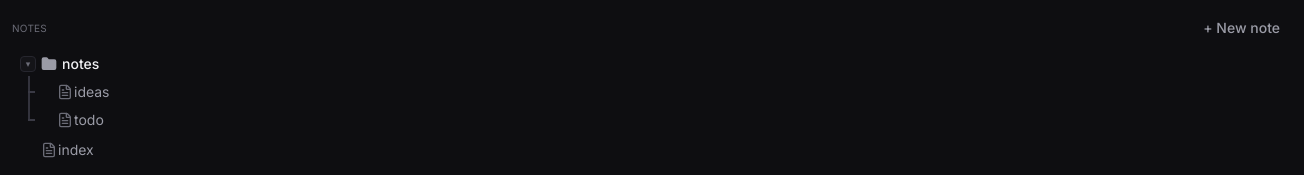
Test: FolderTree › collapses and re-expands a folder
Check: the button "ideas" is shown, box [74,78,1284,106]
Click the button "notes". click: (81, 64)
box: [62,50,1284,78]
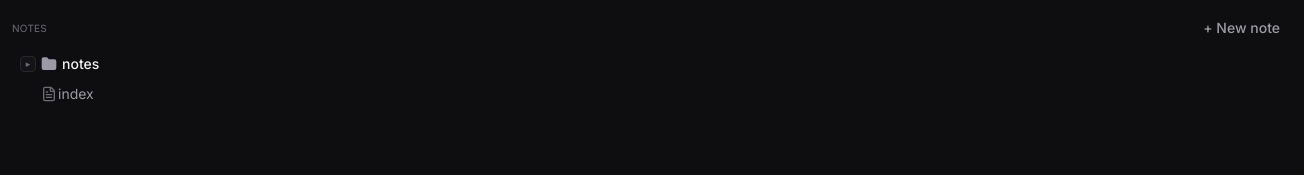
Check: the button "ideas" is gone
Click the button "notes". click: (81, 64)
box: [62,50,1284,78]
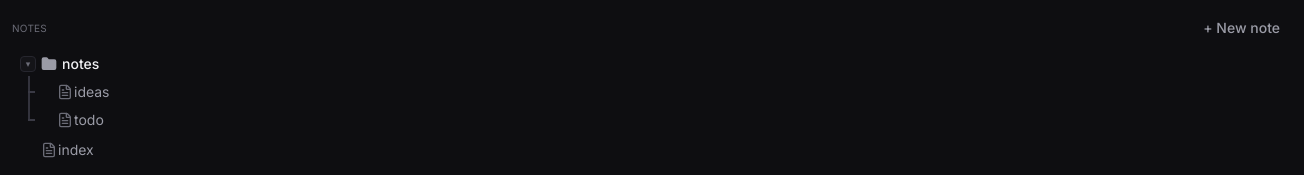
Check: the button "ideas" is shown, box [74,78,1284,106]
